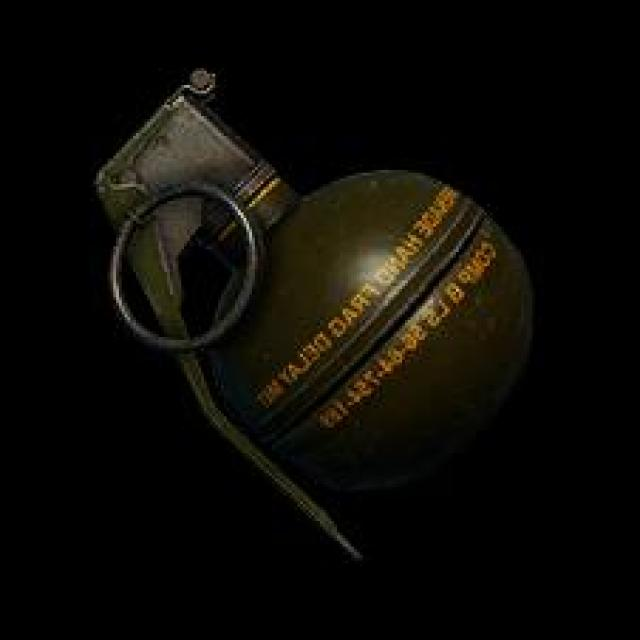grenade: (97, 72, 539, 567)
